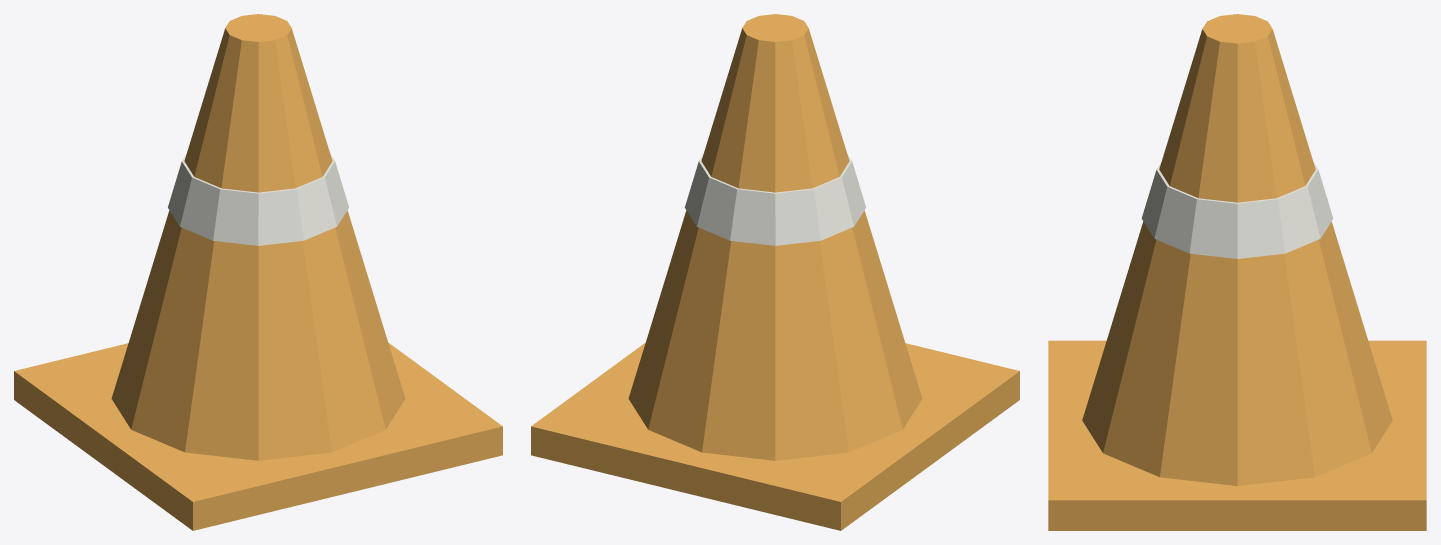
The model's file is training-cone-9635613a.glb.
3 renders of one model, left to right at view 1: azimuth 30°, elevation 25°; view 2: azimuth 150°, elevation 25°; view 3: azimuth 270°, elevation 25°, orthographic. The views are drawn at different scales.
Parts seen in each view (by area): view 1: training-cone; view 2: training-cone; view 3: training-cone.
Boxes of the visible parts, x1,y1,x2,y2 form: training-cone: (14,14,502,530); training-cone: (531,14,1019,530); training-cone: (1048,14,1426,530).
Size of the model in its own units: 0.28 by 0.345 by 0.28.
